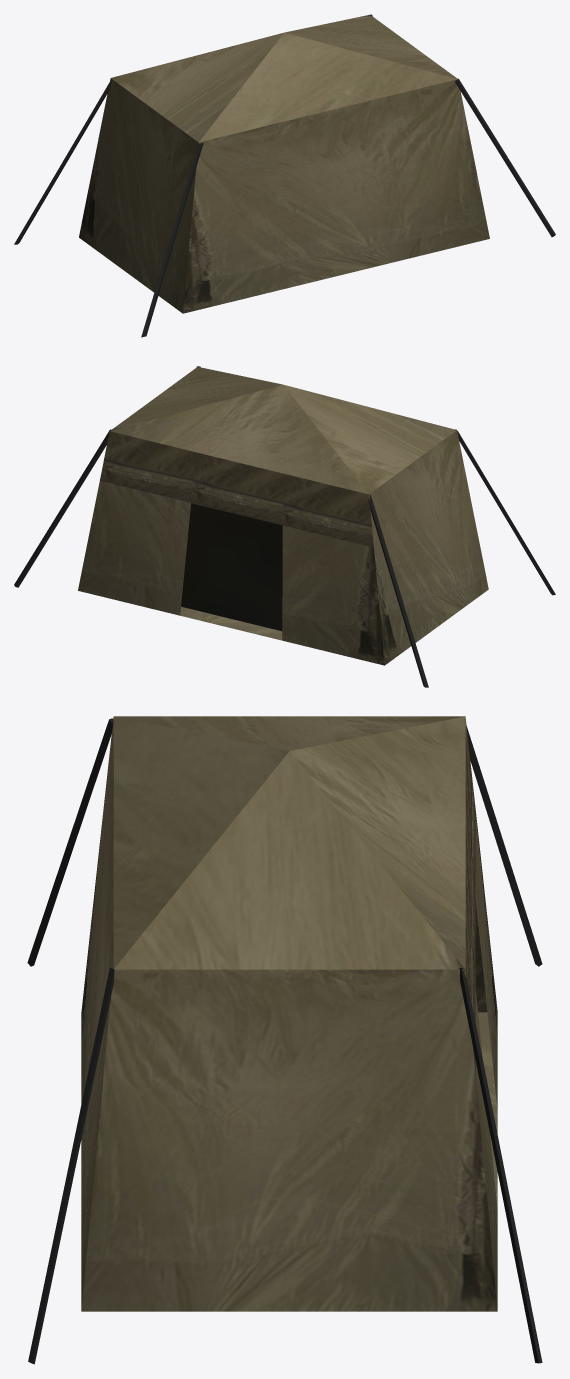
Rendered from Miltary Tent 1.fbx.
3 renders of one model, top to bottom at view 1: azimuth 30°, elevation 25°; view 2: azimuth 150°, elevation 25°; view 3: azimuth 270°, elevation 25°, orthographic. The views are drawn at different scales.
Visible parts, largest first — view 1: Tent 3; view 2: Tent 3; view 3: Tent 3.
Part boxes in pixels (left/top/right/bottom): Tent 3: left=14, top=14, right=555, bottom=337; Tent 3: left=14, top=366, right=555, bottom=687; Tent 3: left=27, top=716, right=542, bottom=1364.
Size of the model in its own units: 8.37 by 4.5 by 4.
Materials: 2 (1 with a texture image).
